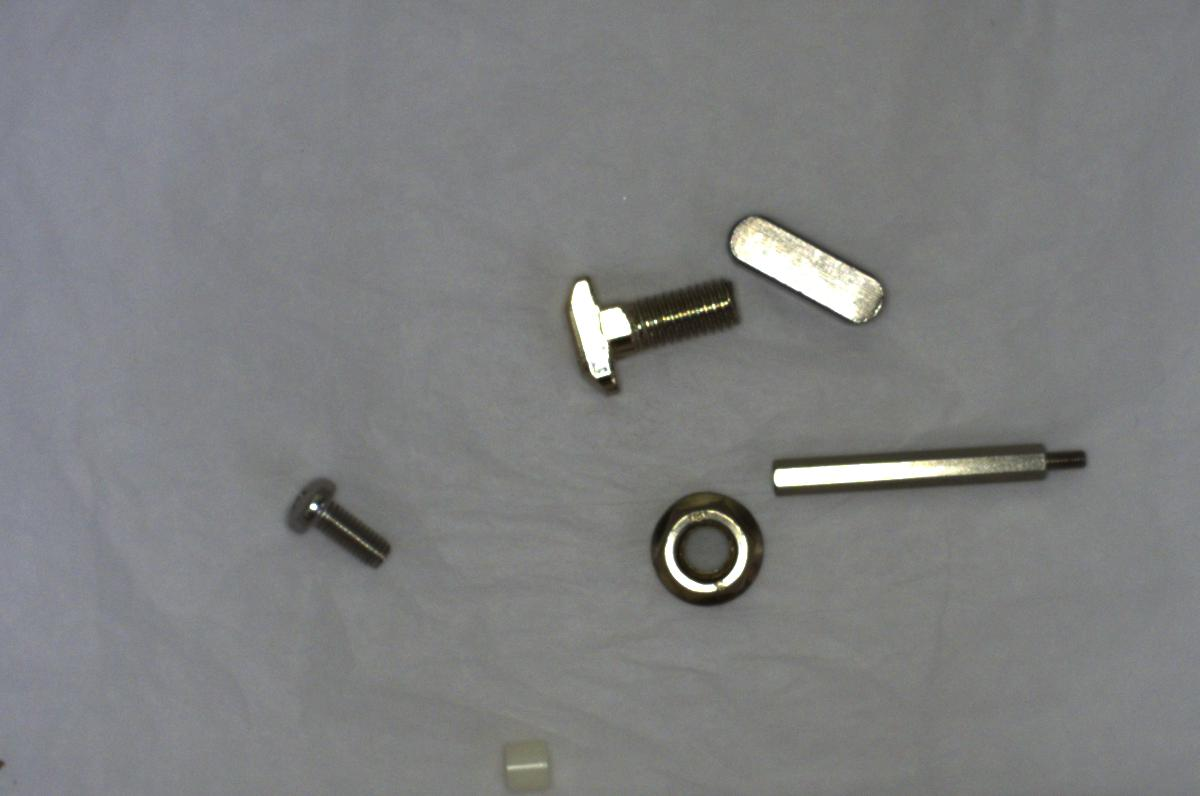Flange nut: (629, 481, 782, 615)
Hexagonal steel column: (757, 421, 1100, 508)
Keybar: (720, 212, 900, 332)
Plastic cushion pillar: (484, 724, 569, 795)
Round head screw: (273, 469, 396, 576)
T-shaped screw: (548, 262, 765, 401)
